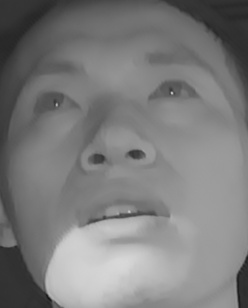eye: (146, 68, 210, 112), (26, 85, 87, 120)
mouth: (71, 184, 174, 242)
